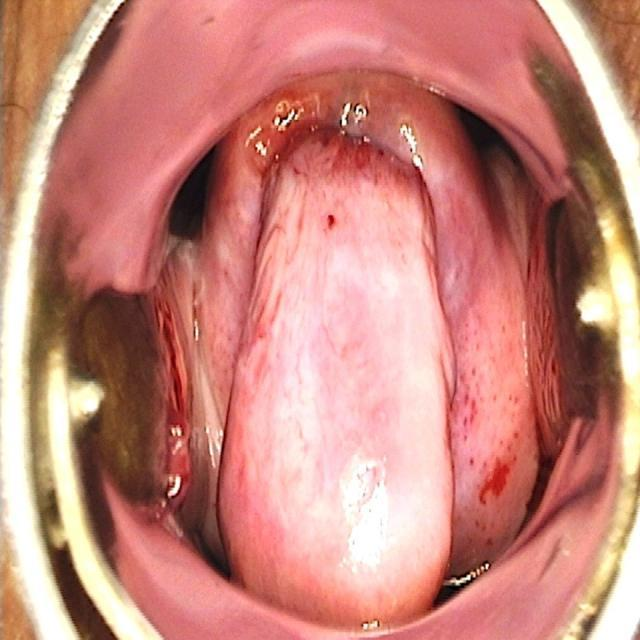cervical_lesion: (144, 84, 504, 640)
